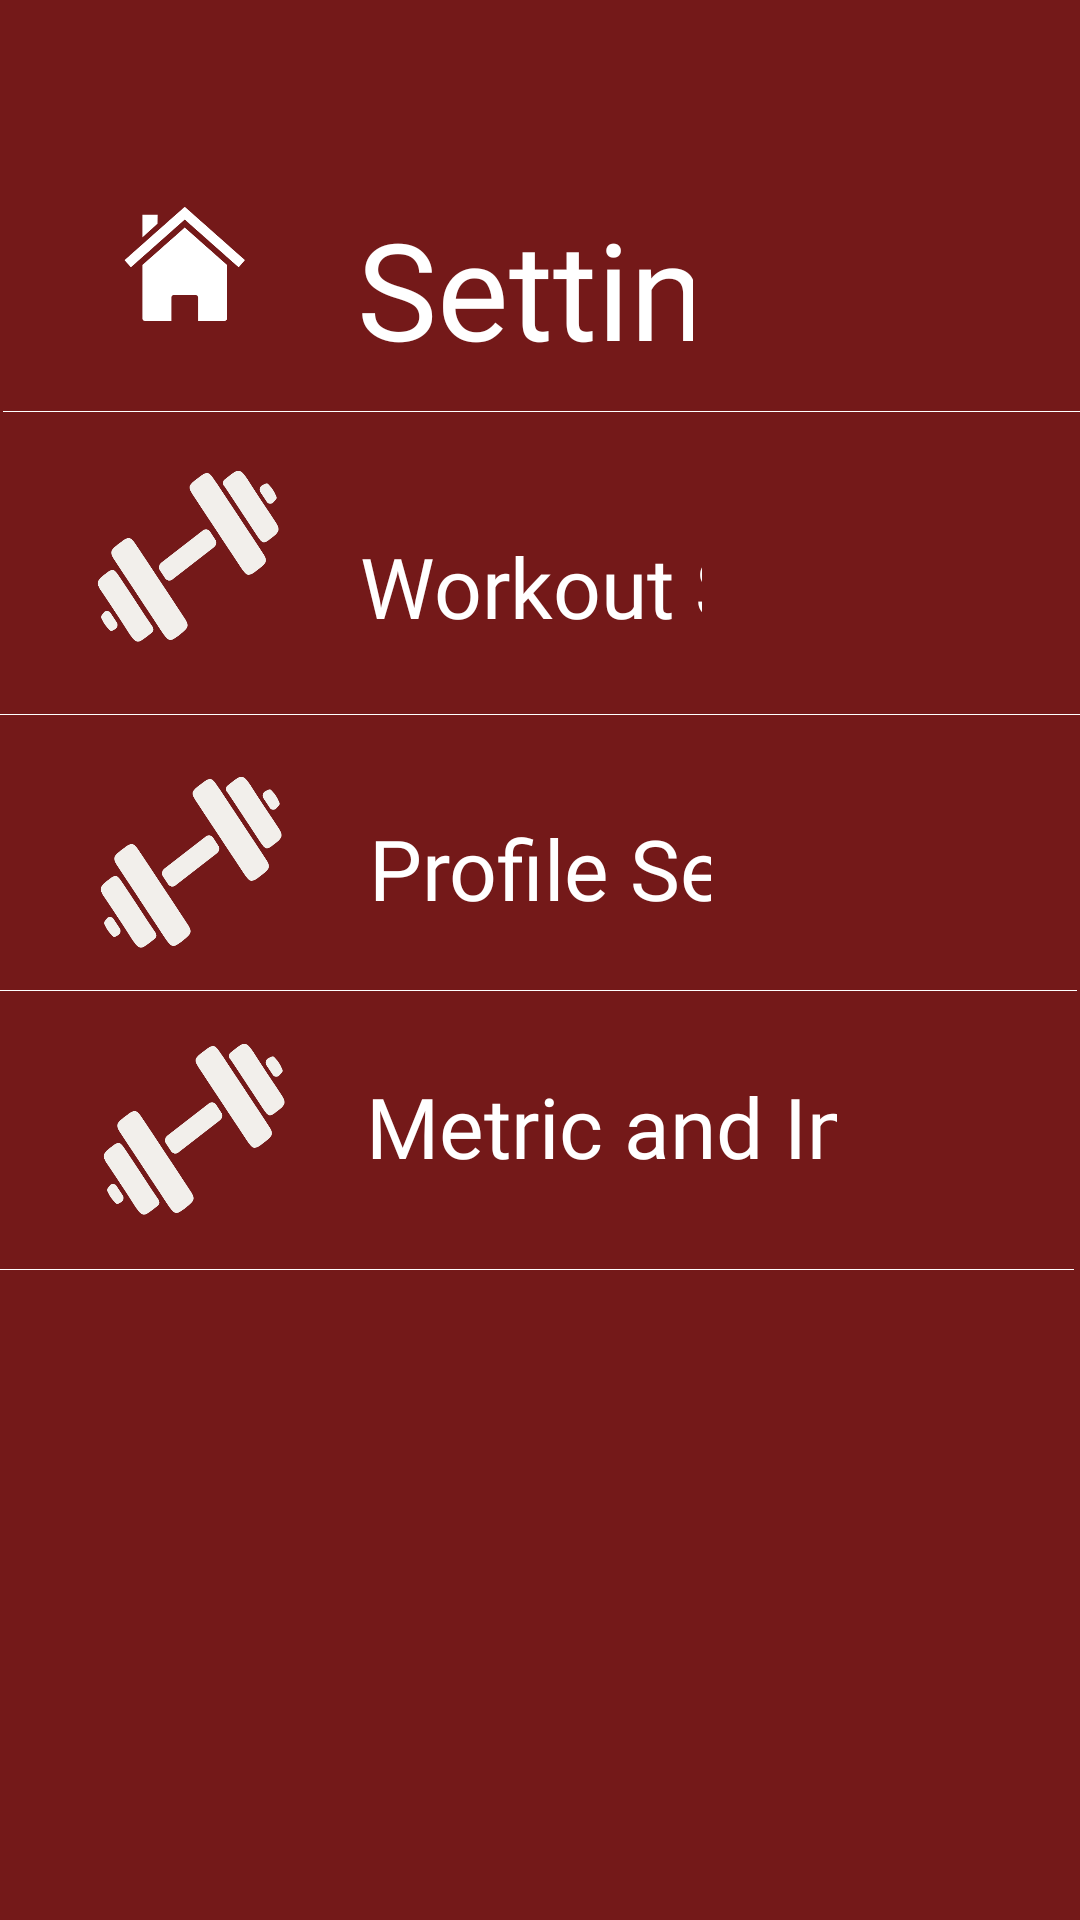

Point at icon controls on the screen. Image size 1080w x 1920h, points as (x=x, y=y).
bahay: (x=185, y=264)
dumbell: (x=188, y=556), (x=191, y=862), (x=194, y=1129)
